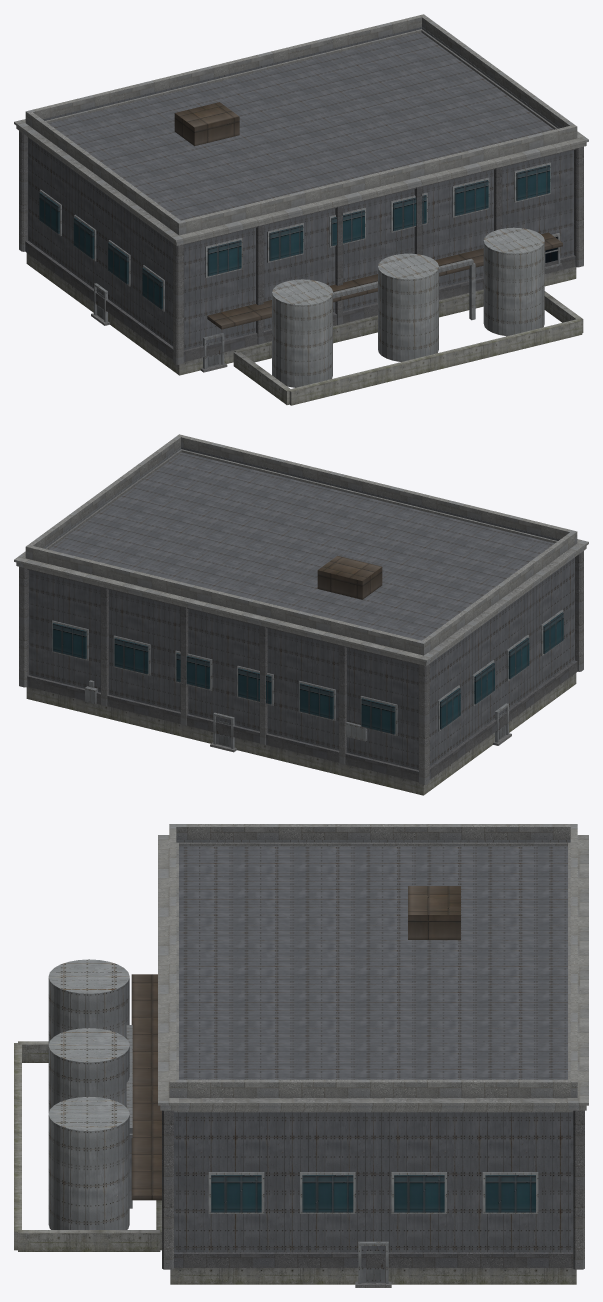
Rendered from riverside-chemical-storage_lod0.gltf.
3 renders of one model, top to bottom at view 1: azimuth 30°, elevation 25°; view 2: azimuth 150°, elevation 25°; view 3: azimuth 270°, elevation 25°, orthographic. The views are drawn at different scales.
Visible parts, largest first — view 1: riverside-chemical-storage_upper, riverside-chemical-storage__v4_stone_detail, riverside-chemical-storage_fen_07-glass-curtain-blue_1, riverside-chemical-storage__tank_c, riverside-chemical-storage__tank_b, riverside-chemical-storage__tank_a, riverside-chemical-storage__bund_front, riverside-chemical-storage__v4_metal_detail, riverside-chemical-storage_fen_14-steel-panel_0, riverside-chemical-storage_base, riverside-chemical-storage__bund_back, riverside-chemical-storage__bund_left (+3 smaller); view 2: riverside-chemical-storage_upper, riverside-chemical-storage__v4_stone_detail, riverside-chemical-storage_fen_07-glass-curtain-blue_1, riverside-chemical-storage_base, riverside-chemical-storage_fen_14-steel-panel_0, riverside-chemical-storage__v4_metal_detail, riverside-chemical-storage__parapet_front; view 3: riverside-chemical-storage_upper, riverside-chemical-storage__v4_stone_detail, riverside-chemical-storage__tank_c, riverside-chemical-storage__v4_metal_detail, riverside-chemical-storage_fen_07-glass-curtain-blue_1, riverside-chemical-storage_base, riverside-chemical-storage__tank_a, riverside-chemical-storage__tank_b, riverside-chemical-storage__bund_right, riverside-chemical-storage_fen_14-steel-panel_0, riverside-chemical-storage__bund_front, riverside-chemical-storage__parapet_left (+1 smaller).
Boxes of the visible parts, bbox=[...] form: riverside-chemical-storage_upper: bbox=[28, 32, 573, 349]; riverside-chemical-storage__v4_stone_detail: bbox=[14, 14, 588, 364]; riverside-chemical-storage_fen_07-glass-curtain-blue_1: bbox=[39, 165, 550, 309]; riverside-chemical-storage__tank_c: bbox=[483, 227, 544, 336]; riverside-chemical-storage__tank_b: bbox=[378, 253, 438, 361]; riverside-chemical-storage__tank_a: bbox=[272, 279, 332, 387]; riverside-chemical-storage__bund_front: bbox=[288, 319, 582, 405]; riverside-chemical-storage__v4_metal_detail: bbox=[174, 102, 562, 329]; riverside-chemical-storage_fen_14-steel-panel_0: bbox=[39, 162, 561, 369]; riverside-chemical-storage_base: bbox=[26, 253, 576, 375]; riverside-chemical-storage__bund_back: bbox=[234, 290, 483, 362]; riverside-chemical-storage__bund_left: bbox=[233, 351, 289, 404]; riverside-chemical-storage_upper: bbox=[29, 452, 574, 770]; riverside-chemical-storage__v4_stone_detail: bbox=[14, 434, 588, 784]; riverside-chemical-storage_fen_07-glass-curtain-blue_1: bbox=[52, 612, 563, 734]; riverside-chemical-storage_base: bbox=[26, 673, 576, 795]; riverside-chemical-storage_fen_14-steel-panel_0: bbox=[52, 609, 563, 748]; riverside-chemical-storage__v4_metal_detail: bbox=[317, 555, 382, 599]; riverside-chemical-storage__parapet_front: bbox=[181, 447, 559, 540]; riverside-chemical-storage_upper: bbox=[174, 846, 573, 1252]; riverside-chemical-storage__v4_stone_detail: bbox=[158, 824, 588, 1269]; riverside-chemical-storage__tank_c: bbox=[48, 1096, 129, 1229]; riverside-chemical-storage__v4_metal_detail: bbox=[131, 886, 460, 1200]; riverside-chemical-storage_fen_07-glass-curtain-blue_1: bbox=[211, 1175, 535, 1212]; riverside-chemical-storage_base: bbox=[170, 1268, 576, 1284]; riverside-chemical-storage__tank_a: bbox=[48, 959, 129, 1043]; riverside-chemical-storage__tank_b: bbox=[48, 1028, 129, 1112]; riverside-chemical-storage__bund_right: bbox=[18, 1230, 160, 1251]; riverside-chemical-storage_fen_14-steel-panel_0: bbox=[208, 1172, 538, 1283]; riverside-chemical-storage__bund_front: bbox=[14, 1043, 21, 1250]; riverside-chemical-storage__parapet_left: bbox=[176, 840, 570, 842].
Size of the model in its own units: 31.22 by 11.35 by 28.31.
